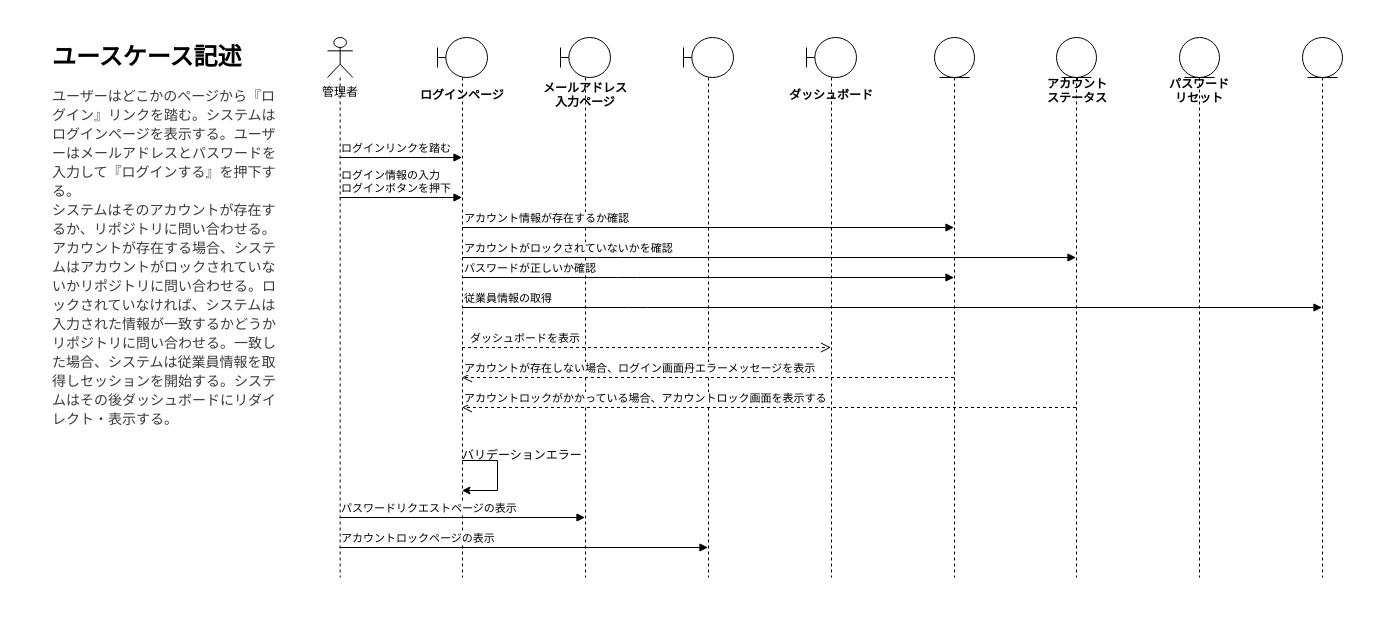
Some shapes in this 1384 by 624 pixel diagram are drawn without their labels. The shapes that lost their labels are listed below. From the top down, each one's box as (x1, y1, x2, y2) in pixels, then its label:
(682, 36, 734, 578): アカウントロックページ
(934, 36, 974, 578): アカウント
(1302, 36, 1342, 578): 従業員
